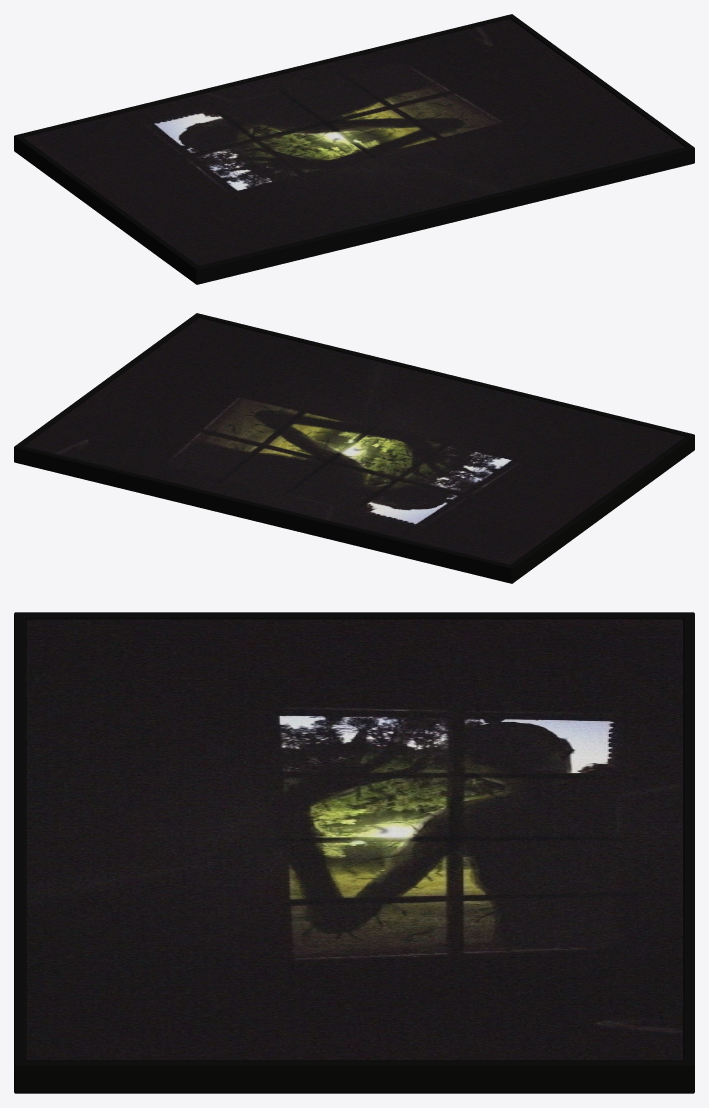
The model's file is lukisanzie5.fbx.
3 views of the same model, one above another, from view 1: azimuth 30°, elevation 25°; view 2: azimuth 150°, elevation 25°; view 3: azimuth 270°, elevation 25° (orthographic). The views are drawn at different scales.
Visible parts, largest first — view 1: painting, frame; view 2: painting, frame; view 3: painting, frame.
Boxes of the visible parts, left/top/right/bottom form: painting: left=23, top=19, right=684, bottom=265; frame: left=14, top=14, right=694, bottom=284; painting: left=24, top=318, right=685, bottom=564; frame: left=14, top=313, right=694, bottom=583; painting: left=25, top=619, right=683, bottom=1059; frame: left=14, top=612, right=694, bottom=1093.
Size of the model in its own units: 136 by 4.3 by 86.4.
